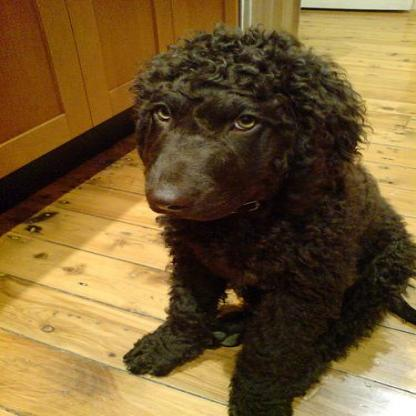Irish_water_spaniel: (123, 23, 413, 414)
